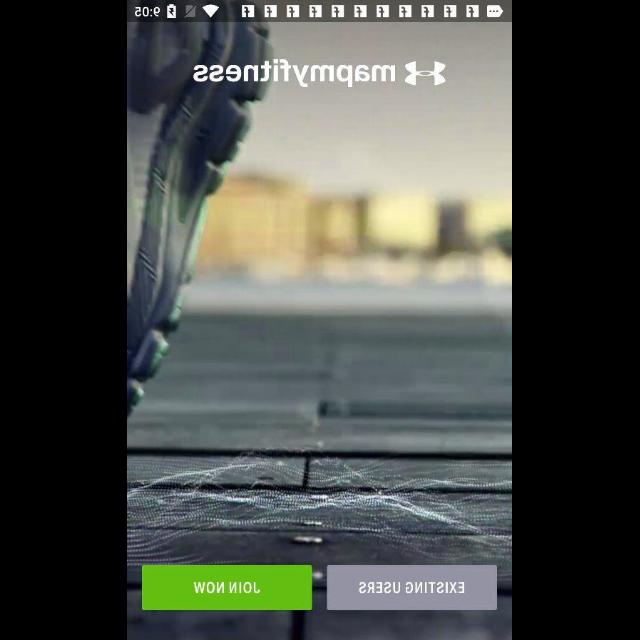backgroundimage: (128, 22, 512, 640)
image: (405, 61, 447, 87)
text: (194, 60, 396, 88)
textbutton: (142, 566, 314, 610), (327, 566, 498, 610)
uppertaskbar: (128, 1, 512, 23)
